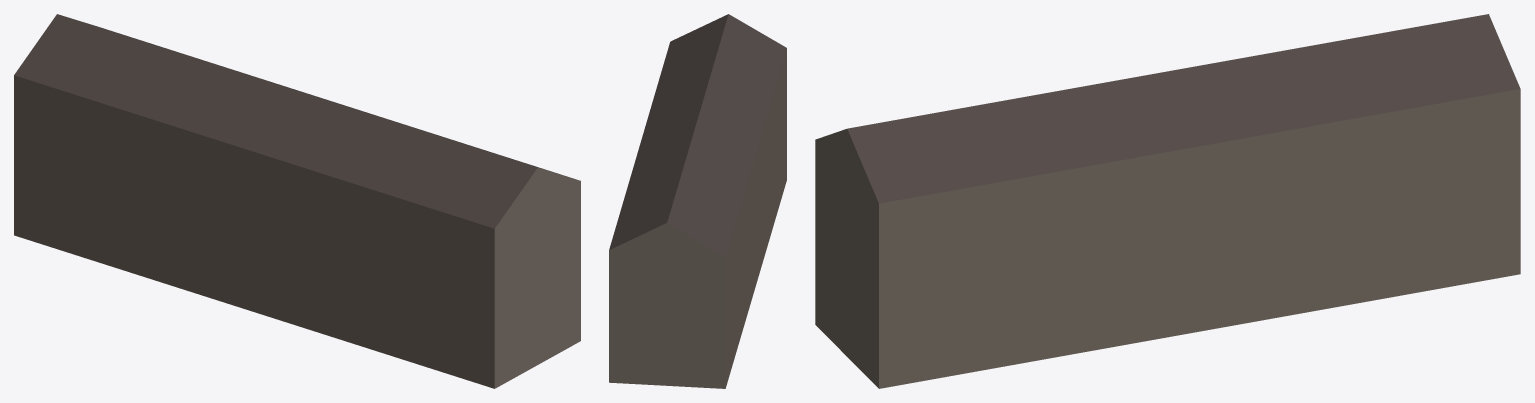
3 views of the same model, side by side, from view 1: azimuth 30°, elevation 25°; view 2: azimuth 150°, elevation 25°; view 3: azimuth 270°, elevation 25° (orthographic). The views are drawn at different scales.
Parts seen in each view (by area): view 1: HP-w372180470; view 2: HP-w372180470; view 3: HP-w372180470.
Boxes of the visible parts, box(x1,y1,x2,y2) form: HP-w372180470: box(14, 14, 580, 388); HP-w372180470: box(609, 14, 786, 388); HP-w372180470: box(815, 14, 1520, 388).
Bounding box in the file's own units: 18.64 × 11.09 × 31.07.
